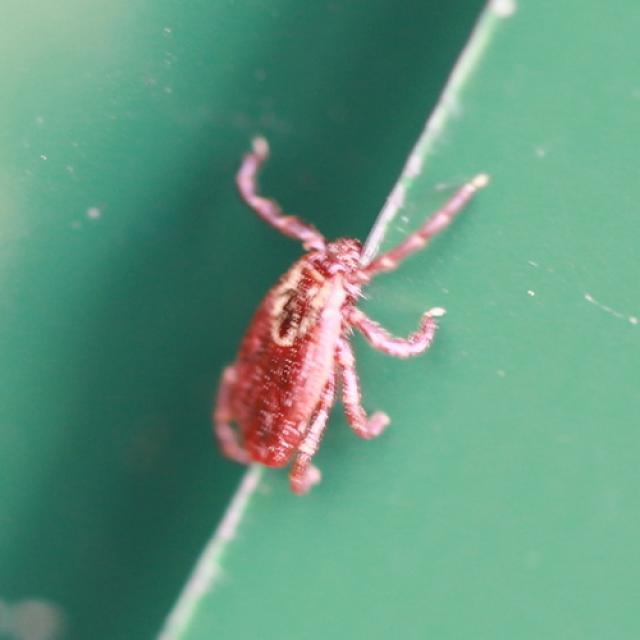Dermacentor Reticulatus-F: (212, 140, 481, 497)
